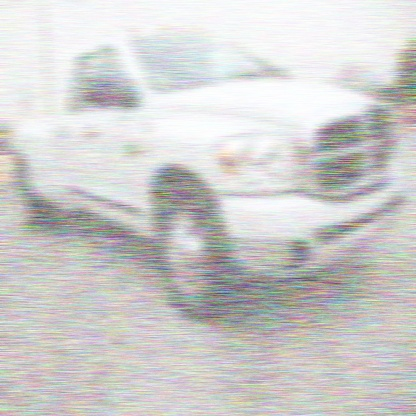Vehicle: (7, 21, 410, 324)
